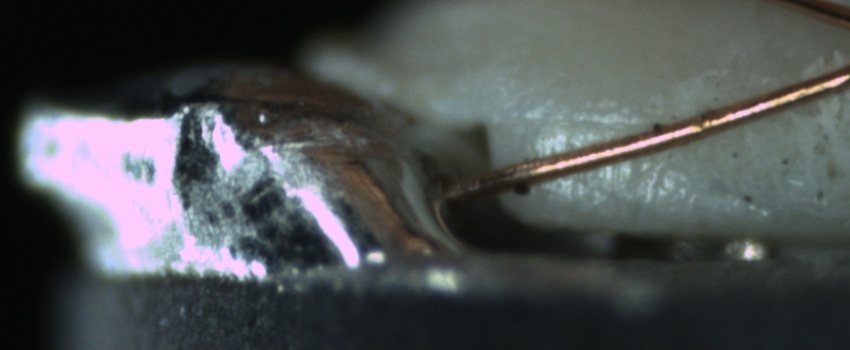DL: (525, 95, 660, 151)
